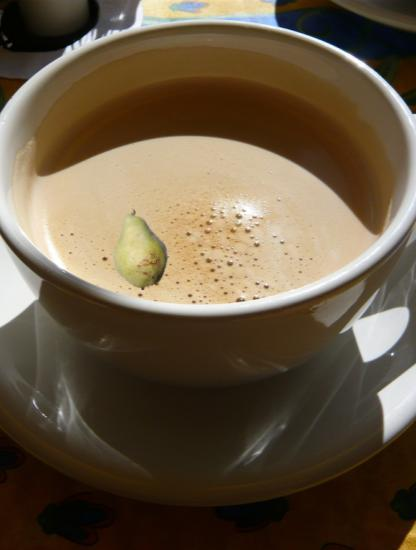Pear: (99, 209, 181, 291)
